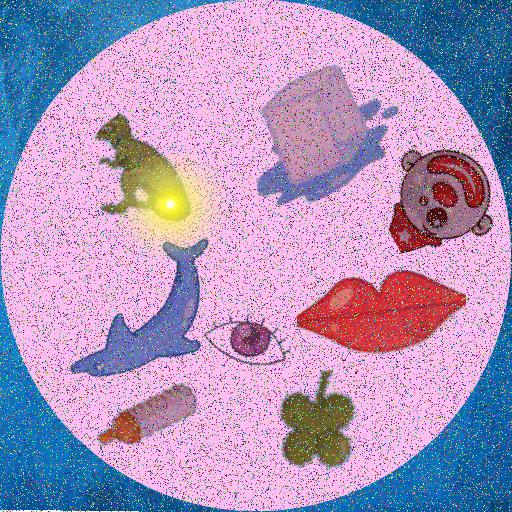bottle_icon: (92, 362, 202, 472)
cloverleaf_icon: (272, 370, 380, 478)
clown_icon: (379, 141, 493, 255)
cube_icon: (225, 38, 404, 217)
dino_icon: (86, 107, 210, 231)
dolphin_icon: (57, 226, 242, 411)
eye_icon: (203, 298, 291, 386)
lips_icon: (297, 237, 466, 406)
